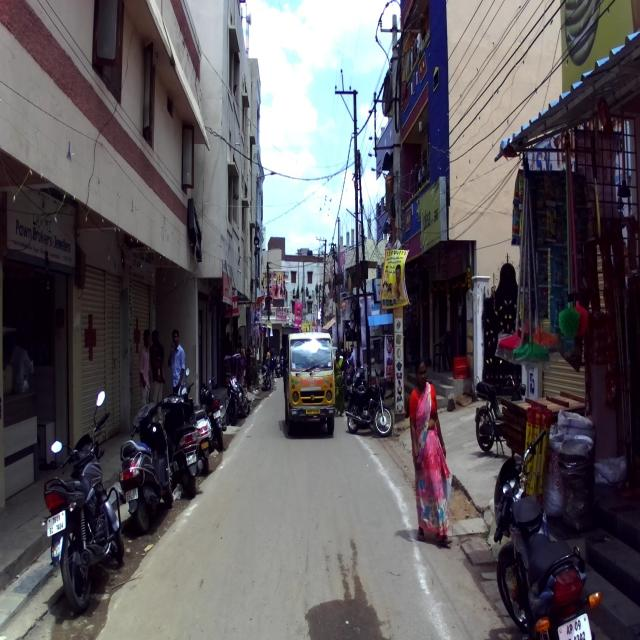motorcycle: (493, 428, 603, 639), (39, 390, 125, 613), (473, 370, 529, 456), (345, 368, 393, 438), (199, 374, 226, 452)
scooter: (117, 398, 173, 532), (158, 392, 198, 498), (177, 367, 213, 476)
truck: (282, 331, 334, 436)
